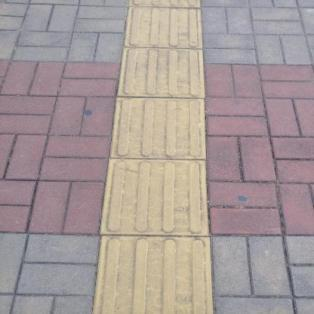Podoctatil: (87, 0, 225, 313)
